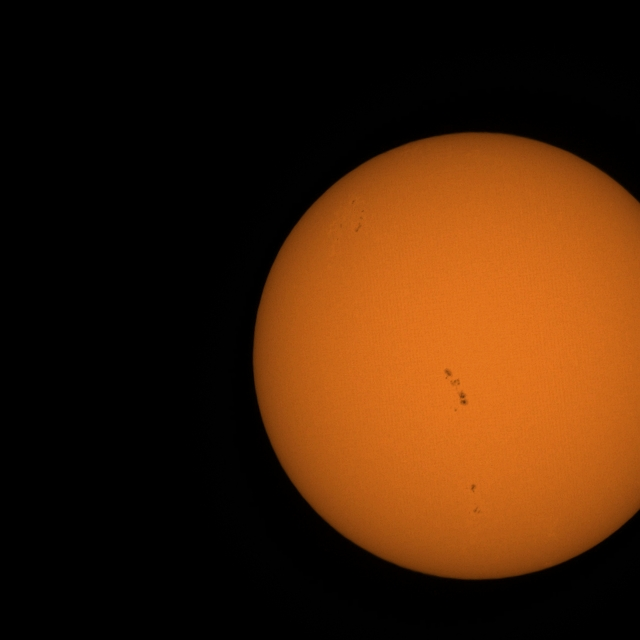sunspot: (444, 368, 468, 407), (443, 368, 462, 389), (356, 211, 365, 234), (470, 505, 482, 516), (354, 219, 363, 233), (469, 483, 477, 494), (339, 223, 343, 229), (351, 200, 355, 205)
